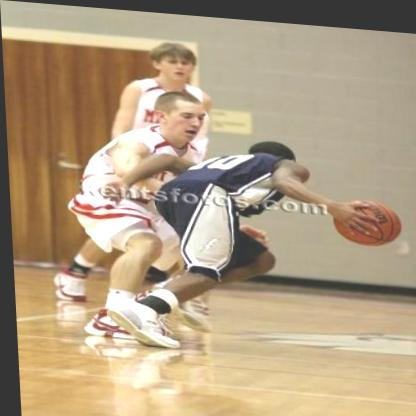basketball: (326, 190, 397, 240)
